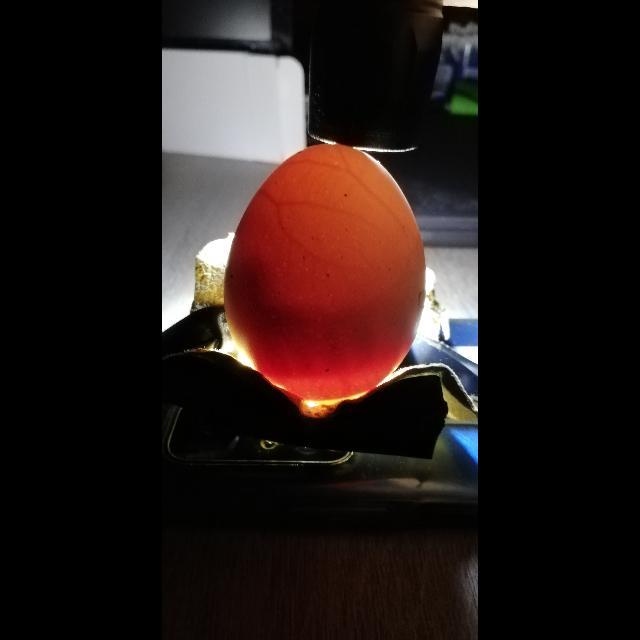Fertile: (232, 142, 424, 408)
